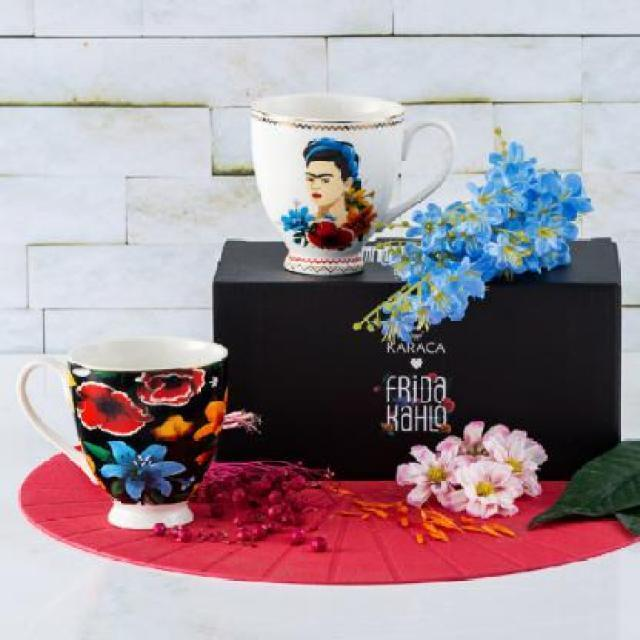taza: (16, 338, 234, 531), (245, 91, 456, 279)
